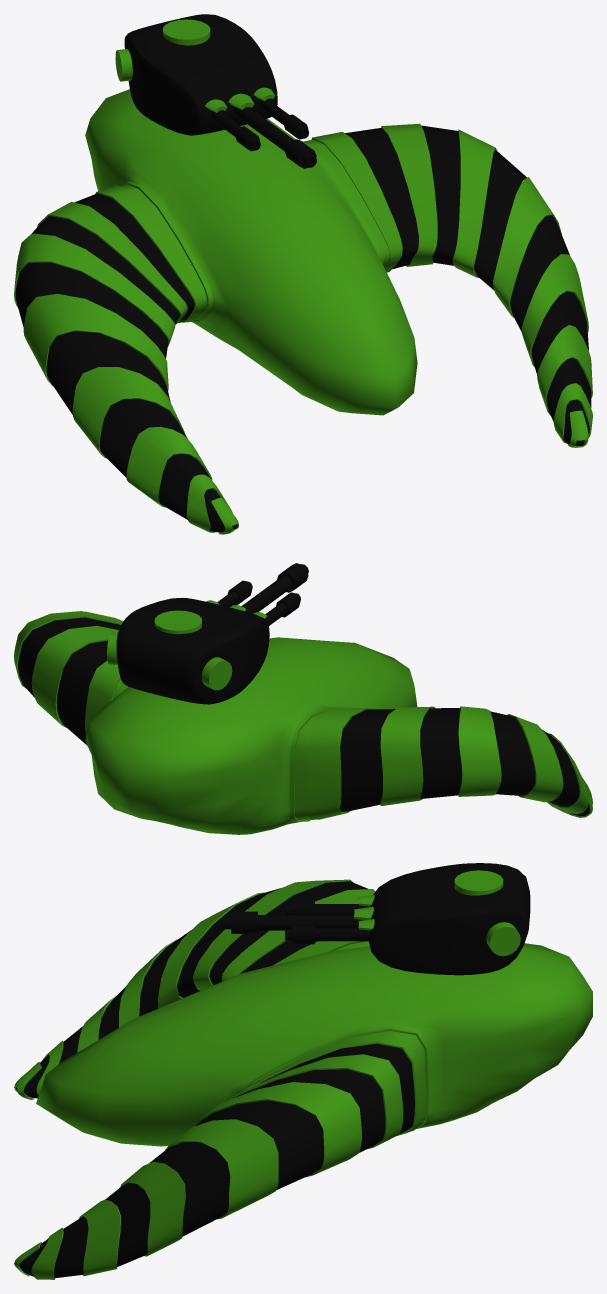
File: Lincore_Green.FBX
The picture shows the model from 3 angles, top to bottom: view 1: azimuth 30°, elevation 25°; view 2: azimuth 150°, elevation 25°; view 3: azimuth 270°, elevation 25°; orthographic projection. The views are drawn at different scales.
Visible parts, largest first — view 1: Box042; view 2: Box042; view 3: Box042.
Part boxes in pixels (x1,y1,x2,y2): Box042: (14,14,592,534); Box042: (14,563,592,834); Box042: (14,863,592,1279).
Size of the model in its own units: 813 by 451 by 766.
